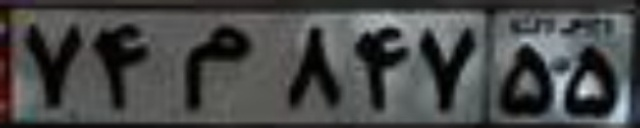4: (353, 24, 413, 109), (94, 23, 146, 111)
5: (495, 39, 554, 114), (563, 45, 621, 118)
7: (23, 22, 85, 108), (418, 23, 478, 111)
8: (280, 25, 343, 108)
mim: (180, 24, 251, 110)
